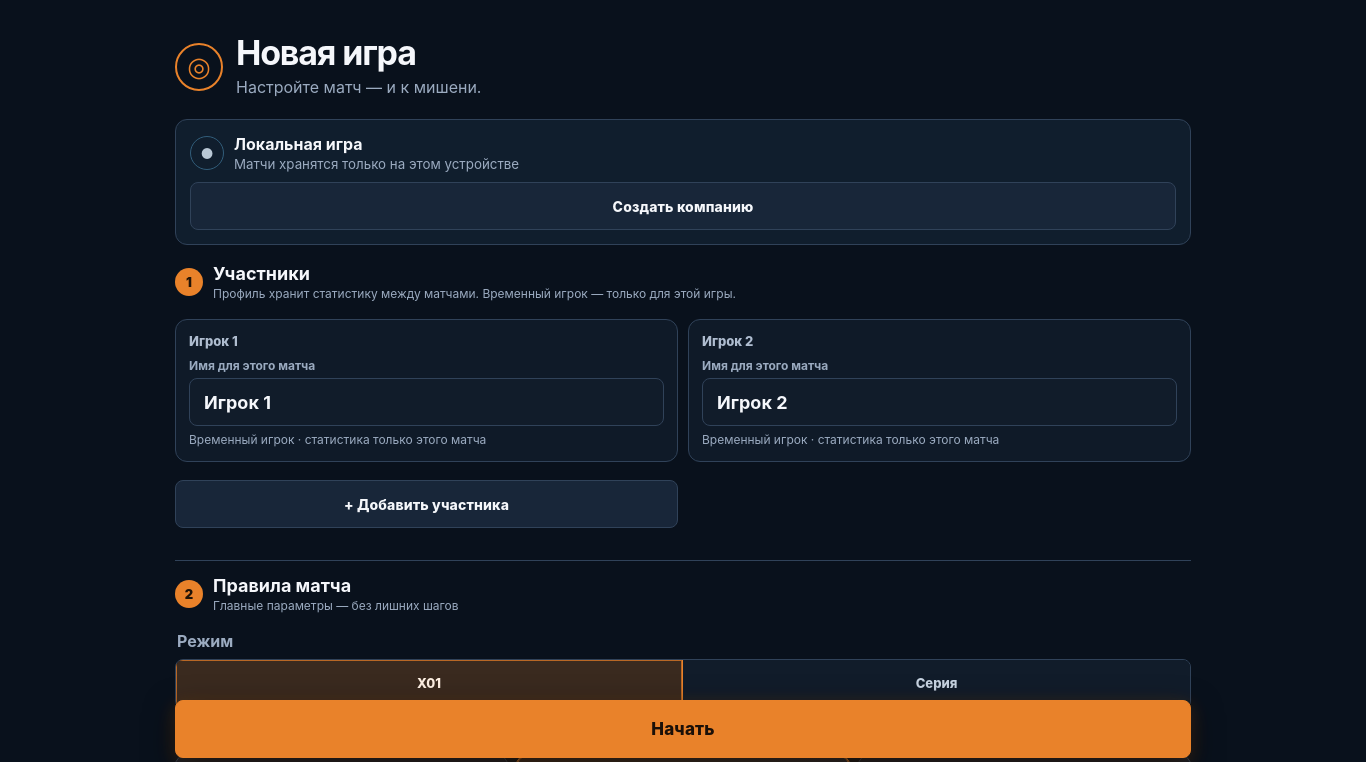
Test: SetupPage participants › protects company creation from duplicate submits and keeps the name for a retry
Click the button "Создать компанию". click: (683,206)
box: [190,182,1176,230]
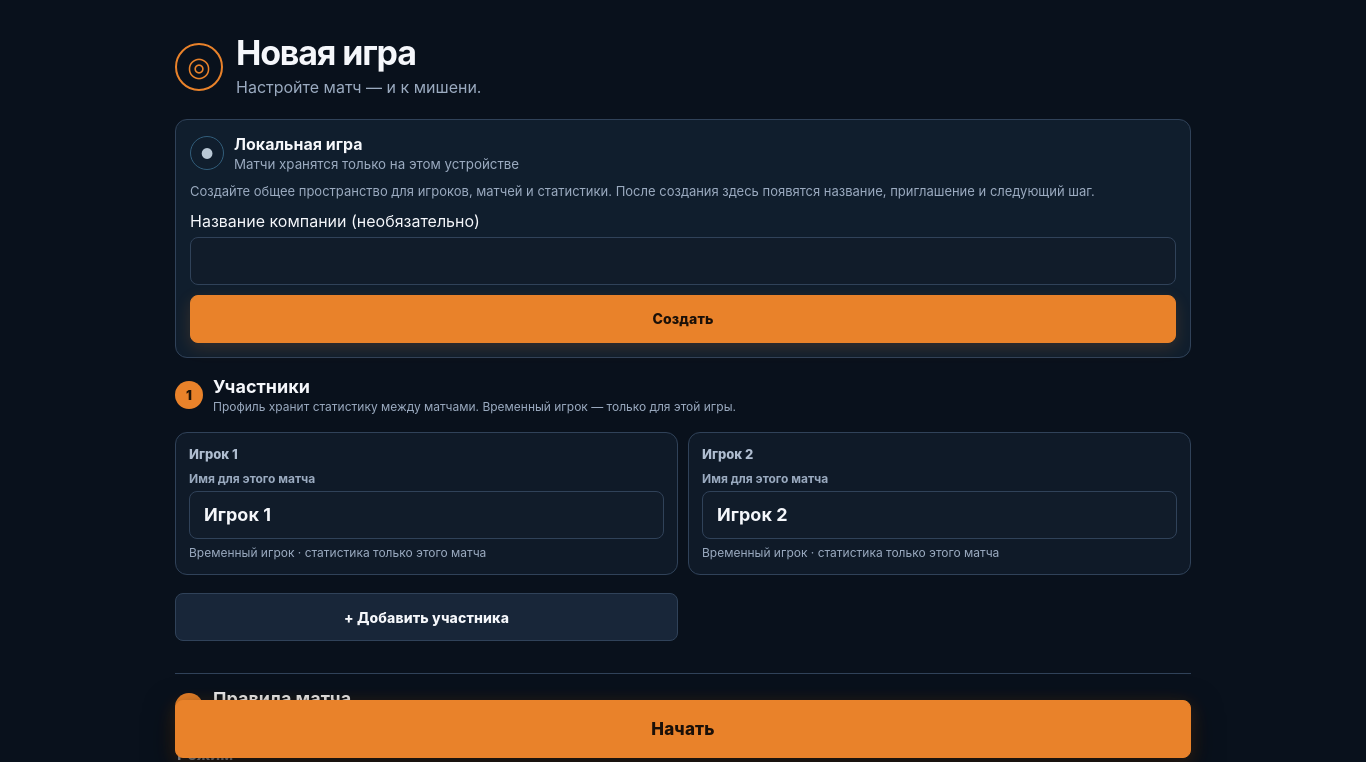
Type "Наша лига" into the field labelled "Название компании (необязательно)". click: (683,261)
box: [190,237,1176,285]
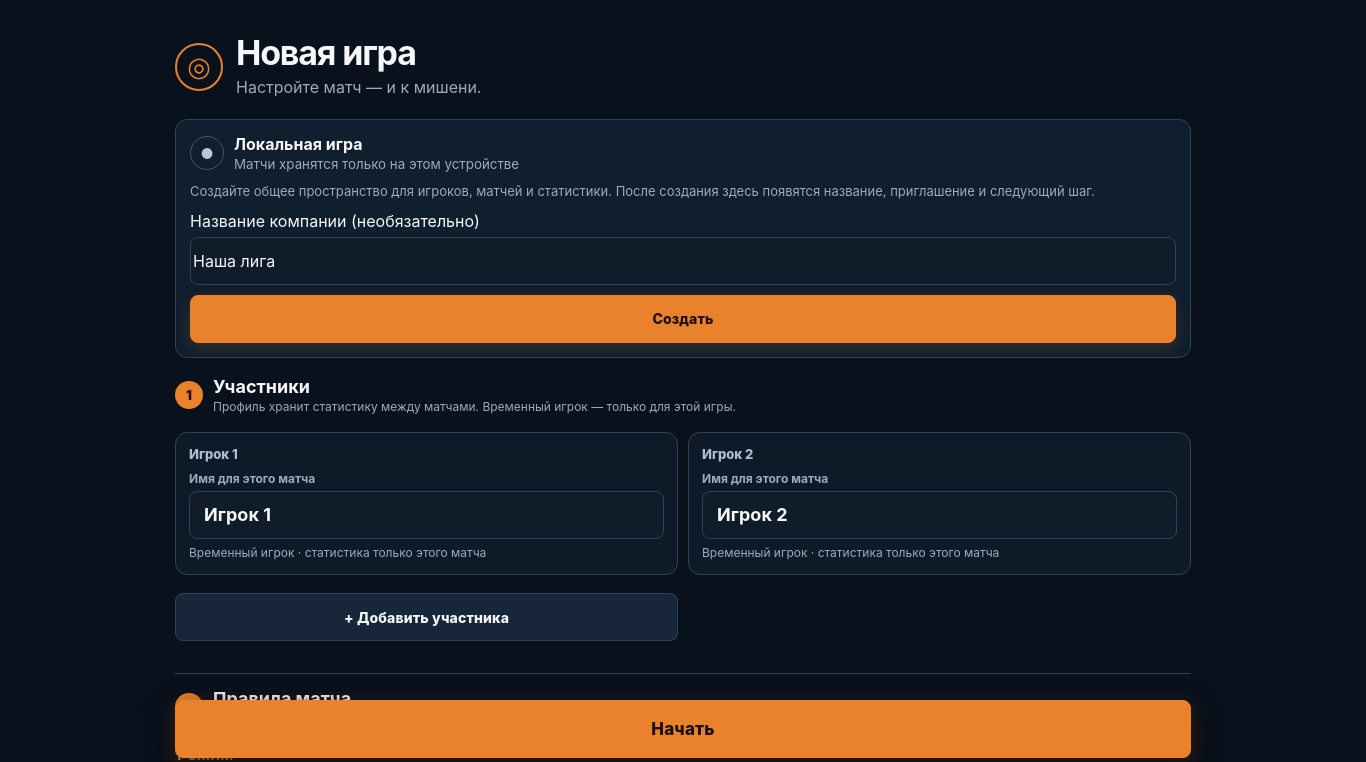
Click the button "Создать". click: (683,319)
box: [190,295,1176,343]
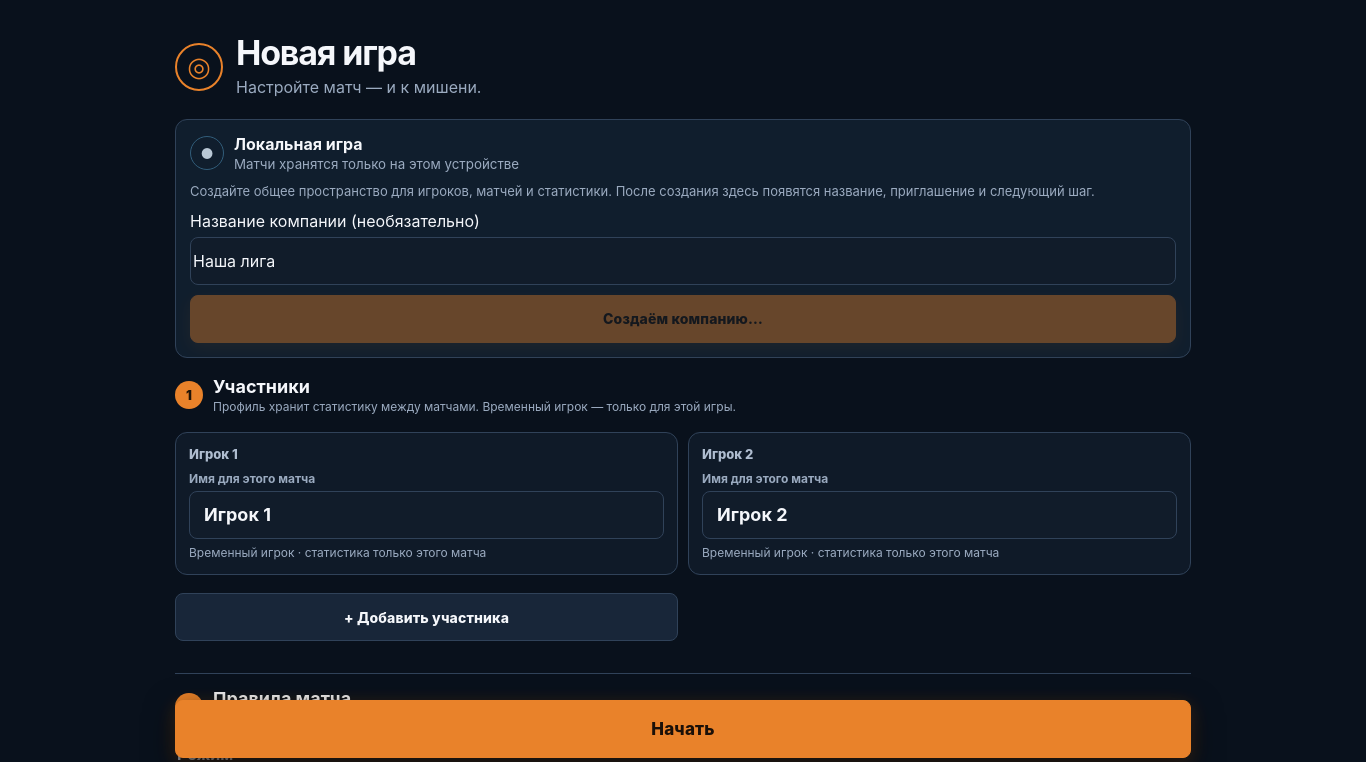
Now the button "Создаём компанию…" is disabled
Click the button "Создаём компанию…". click: (683,319)
box: [190,295,1176,343]
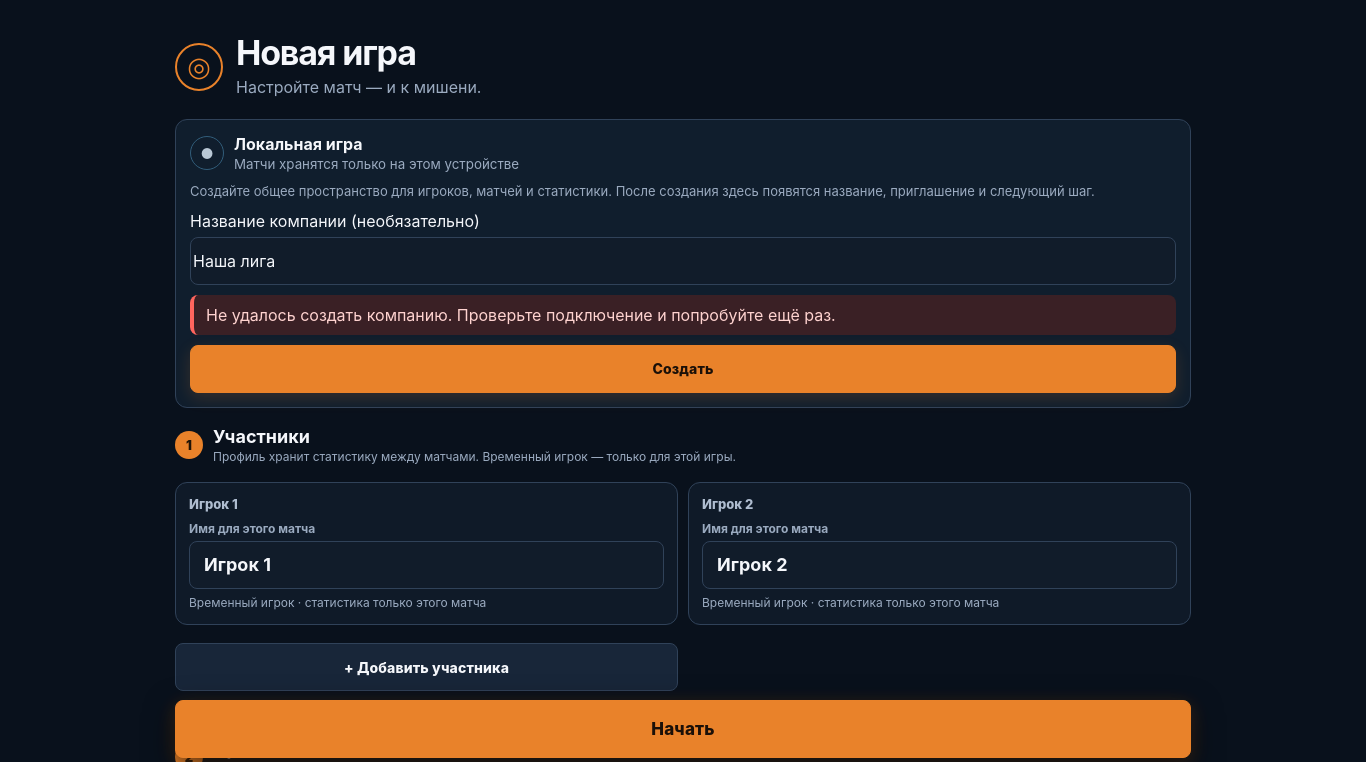
Now the message reads "Не удалось создать компанию. Проверьте подключение и попробуйте ещё раз.", box [206,305,836,325]
Now the button "Создать" is enabled, box [190,345,1176,393]
